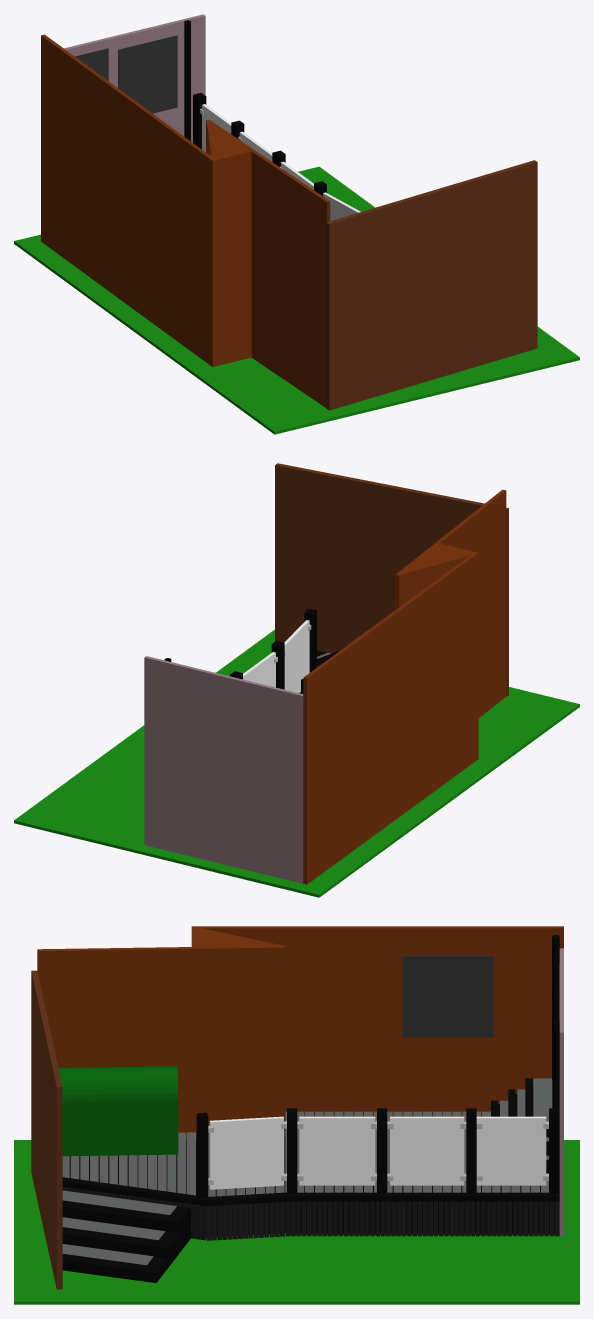
File: model.glb.glb
3 renders of one model, top to bottom at view 1: azimuth 30°, elevation 25°; view 2: azimuth 150°, elevation 25°; view 3: azimuth 270°, elevation 25°, orthographic. The views are drawn at different scales.
Parts seen in each view (by area): view 1: 5- fence side wall, 2- SIde wall, 4- Angled wall, Build Base, 3- Small angle wall, 1-Door wall, 7- Door wall window, 10- pipe 2, 6- Door; view 2: 2- SIde wall, 1-Door wall, 5- fence side wall, Build Base, 4- Angled wall, 3- Small angle wall, 4- Pannel, 3- Pannel; view 3: 2- SIde wall, Build Base, 4- Angled wall, 11- oil tank, 8- Wall window, 5- fence side wall, 3- Pannel, 2- Pannel, 4- Pannel, 1- Pannel, Front straight, front shadow (+21 smaller).
Boxes of the visible parts, bbox=[...] form: 5- fence side wall: bbox=[326, 160, 537, 410]; 2- SIde wall: bbox=[41, 34, 215, 366]; 4- Angled wall: bbox=[206, 119, 330, 407]; Build Base: bbox=[14, 166, 579, 434]; 3- Small angle wall: bbox=[206, 121, 251, 366]; 1-Door wall: bbox=[64, 14, 205, 142]; 7- Door wall window: bbox=[118, 35, 177, 113]; 10- pipe 2: bbox=[184, 20, 190, 141]; 6- Door: bbox=[75, 48, 108, 80]; 2- SIde wall: bbox=[303, 552, 478, 884]; 1-Door wall: bbox=[144, 656, 303, 883]; 5- fence side wall: bbox=[275, 463, 508, 696]; Build Base: bbox=[14, 629, 579, 897]; 4- Angled wall: bbox=[395, 489, 506, 717]; 3- Small angle wall: bbox=[399, 543, 474, 606]; 4- Pannel: bbox=[284, 620, 309, 692]; 3- Pannel: bbox=[243, 652, 275, 687]; 2- SIde wall: bbox=[191, 926, 563, 1118]; Build Base: bbox=[14, 1140, 579, 1304]; 4- Angled wall: bbox=[37, 945, 284, 1167]; 11- oil tank: bbox=[58, 1066, 178, 1156]; 8- Wall window: bbox=[402, 955, 493, 1037]; 5- fence side wall: bbox=[31, 970, 62, 1289]; 3- Pannel: bbox=[299, 1116, 375, 1185]; 2- Pannel: bbox=[390, 1116, 464, 1185]; 4- Pannel: bbox=[209, 1116, 283, 1189]; 1- Pannel: bbox=[476, 1116, 546, 1185]; Front straight: bbox=[287, 1192, 559, 1201]; front shadow: bbox=[290, 1201, 554, 1234].
Size of the model in its own units: 25.7 by 16.82 by 38.
